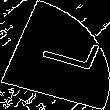L_W: (18, 32, 92, 78)
